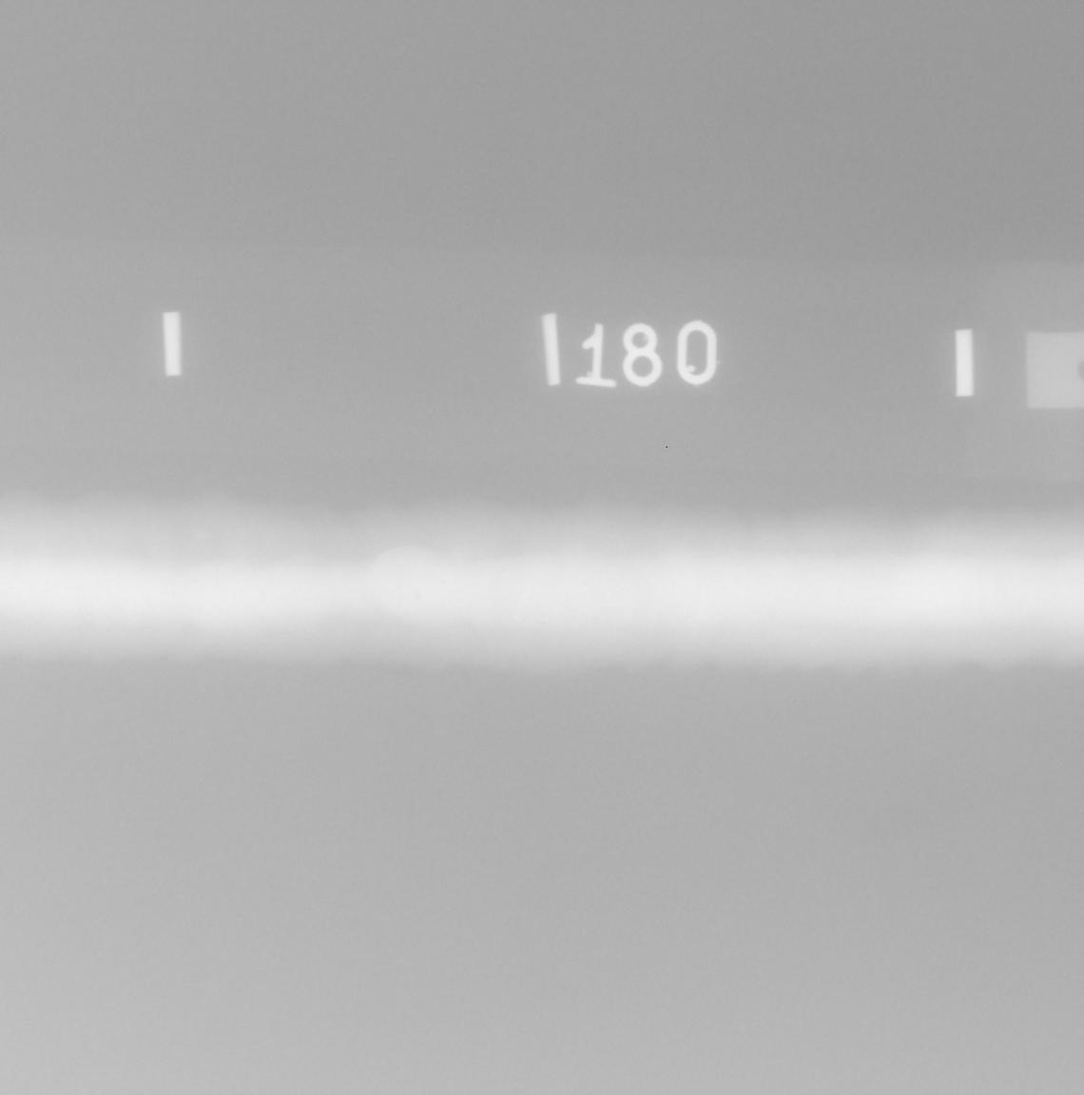Pore/Porosity: (414, 593, 421, 601)
